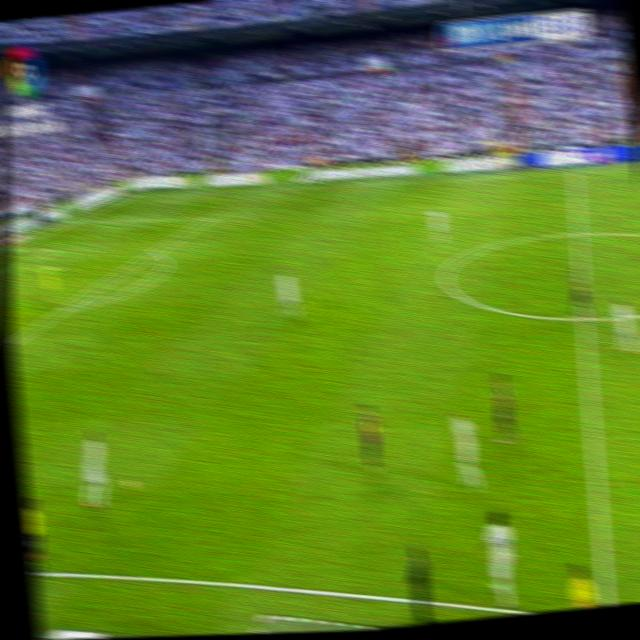halfcircle_bottom: (574, 307, 592, 330)
halfcircle_top: (569, 220, 587, 245)
midline_top_intersection: (567, 164, 581, 179)
top_arc_area_intersection: (146, 242, 162, 259)
